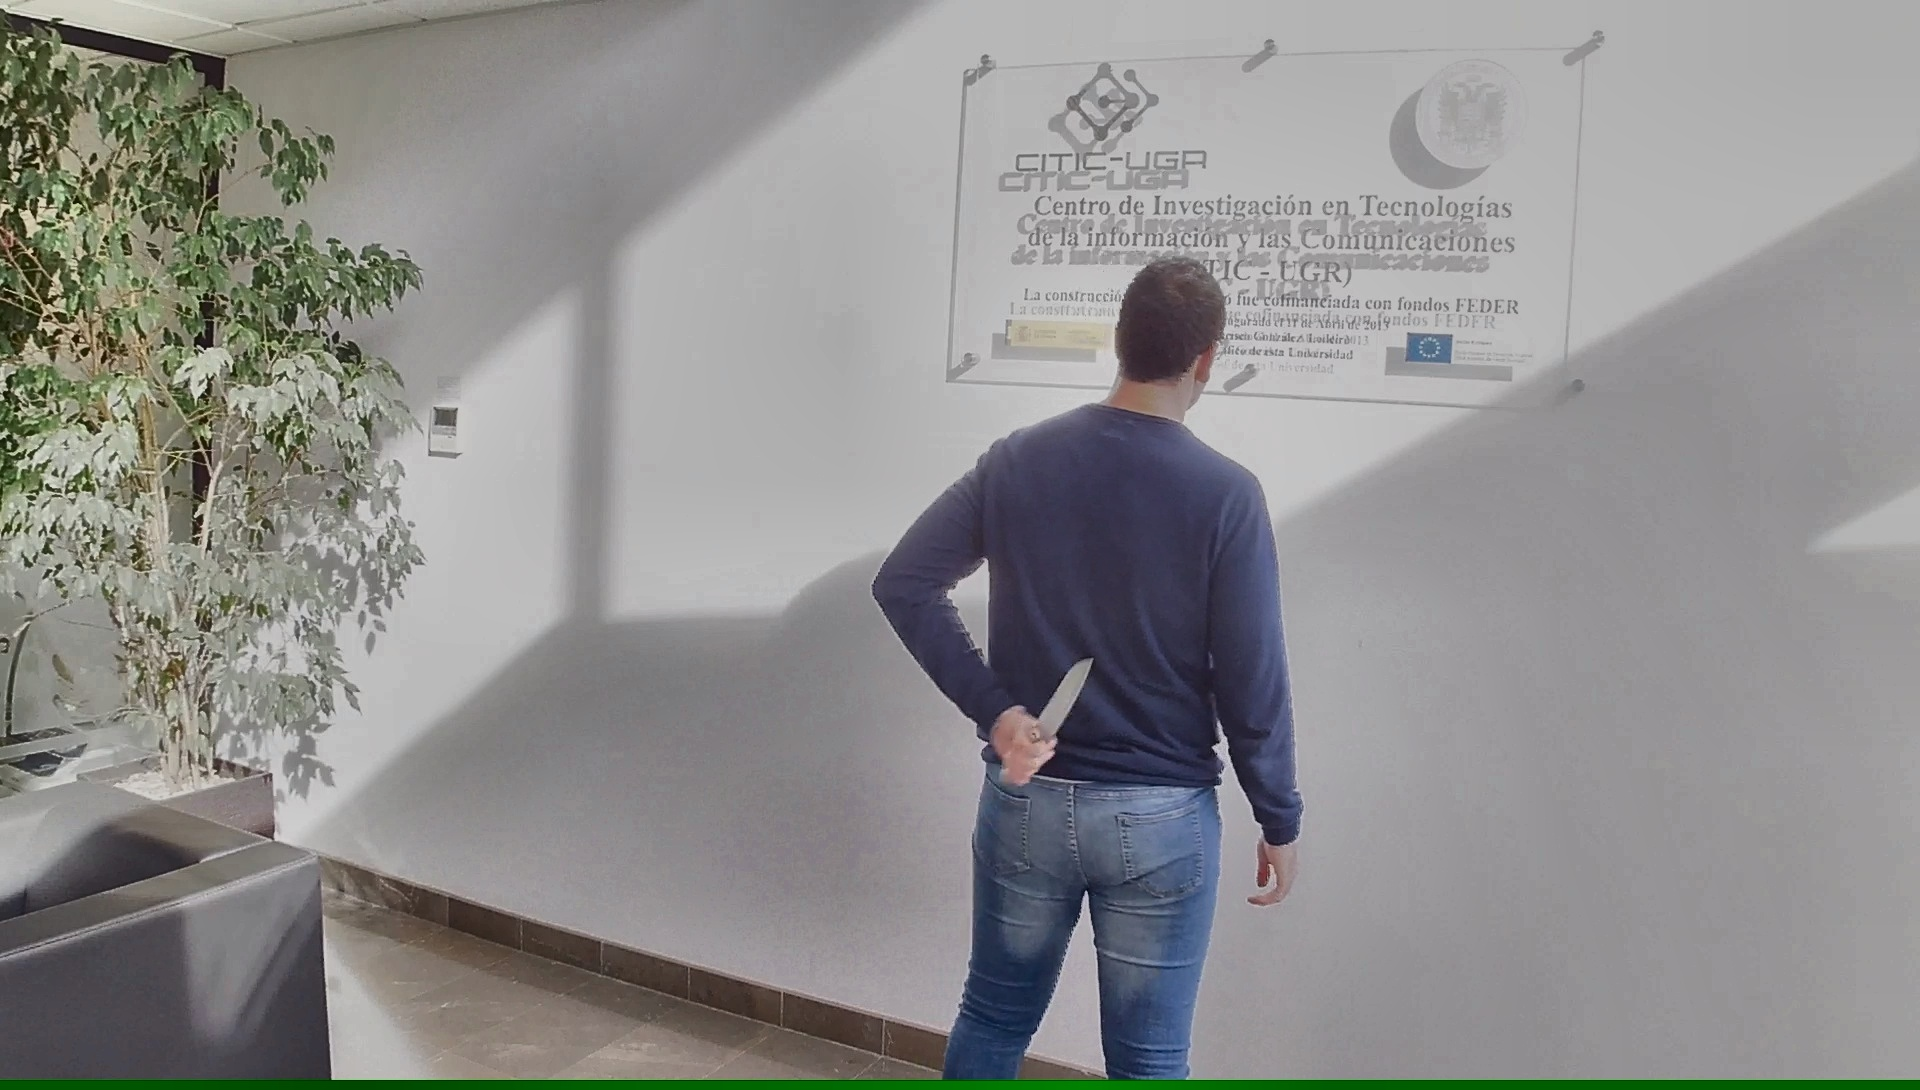knife: (1004, 643, 1106, 768)
